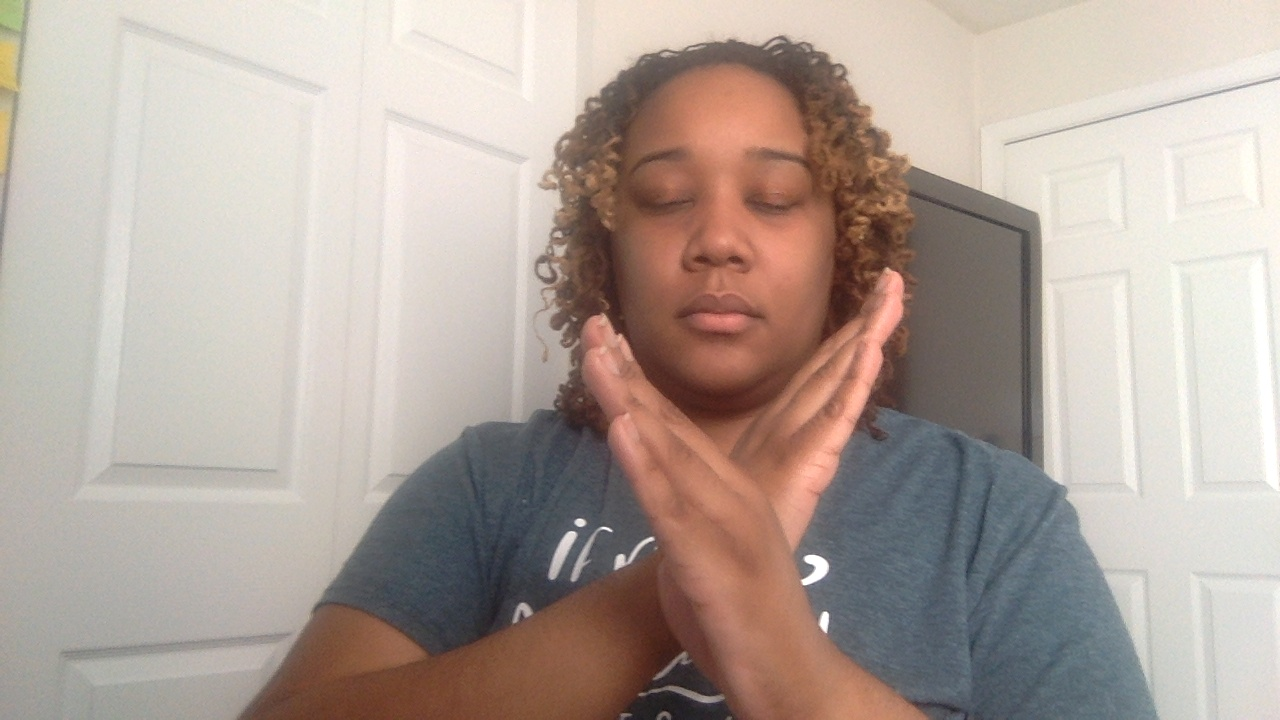quiet: (532, 248, 923, 696)
